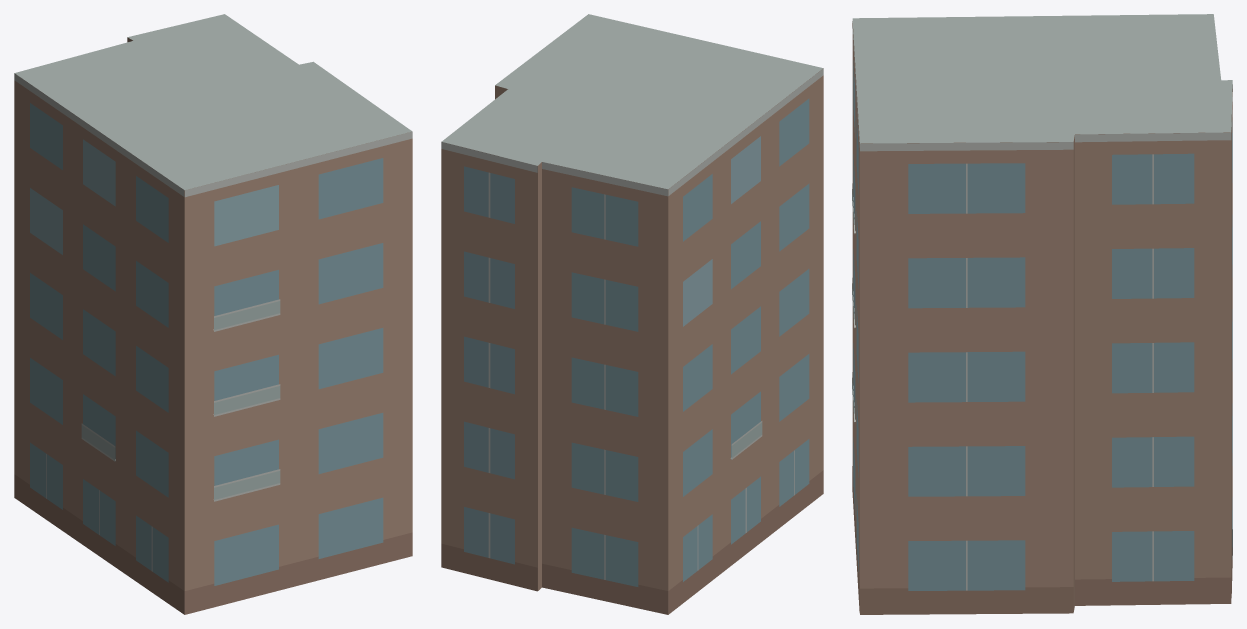
The model's file is survey-upis-32575811.glb.
3 renders of one model, left to right at view 1: azimuth 30°, elevation 25°; view 2: azimuth 150°, elevation 25°; view 3: azimuth 270°, elevation 25°, orthographic. The views are drawn at different scales.
Visible parts, largest first — view 1: survey-upis-32575811.tmp; view 2: survey-upis-32575811.tmp; view 3: survey-upis-32575811.tmp.
Part boxes in pixels (left/top/right/bottom): survey-upis-32575811.tmp: left=14, top=14, right=412, bottom=614; survey-upis-32575811.tmp: left=441, top=14, right=823, bottom=614; survey-upis-32575811.tmp: left=852, top=14, right=1232, bottom=614.
Bounding box in the file's own units: 8.67 × 14.7 × 10.76.
